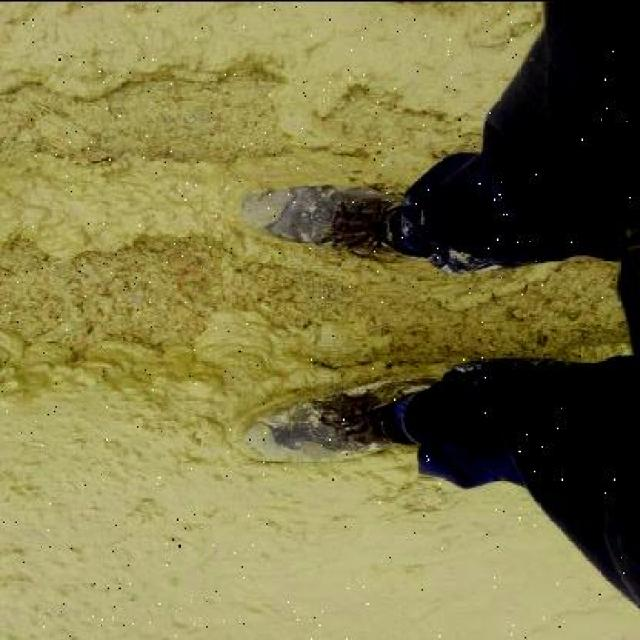shoes: (249, 369, 437, 460), (232, 170, 410, 255)
